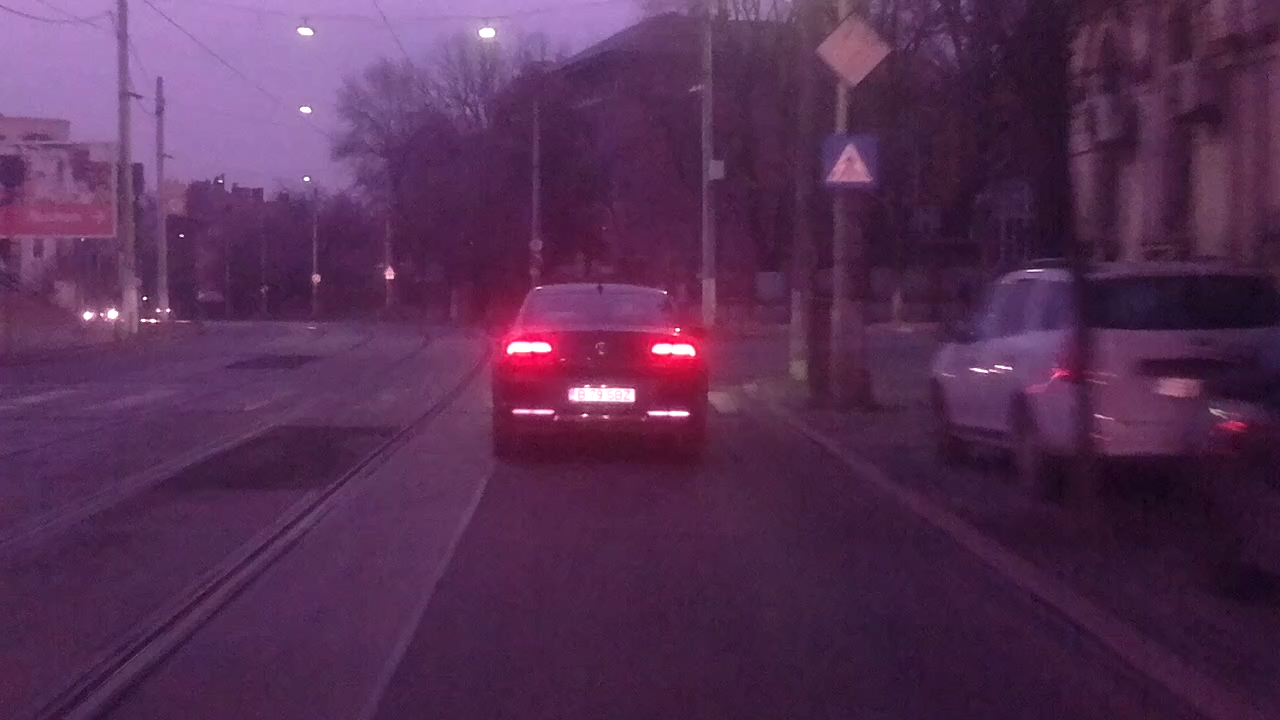license-plate: (563, 385, 638, 405)
